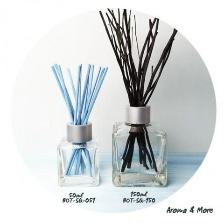bottle: (109, 103, 171, 188), (51, 119, 102, 191)
